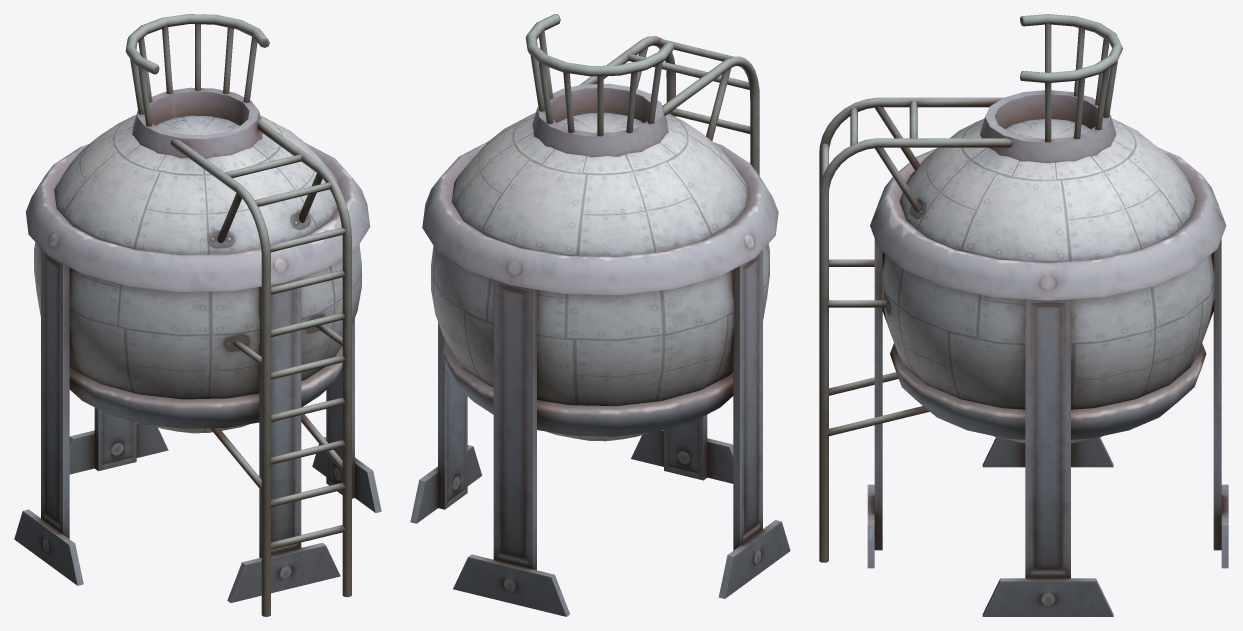
The model's file is StorageTank01.FBX.
3 views of the same model, side by side, from view 1: azimuth 30°, elevation 25°; view 2: azimuth 150°, elevation 25°; view 3: azimuth 270°, elevation 25° (orthographic). The views are drawn at different scales.
Parts seen in each view (by area): view 1: StorageTank01; view 2: StorageTank01; view 3: StorageTank01.
Part boxes in pixels (left/top/right/bottom): StorageTank01: left=14, top=14, right=381, bottom=616; StorageTank01: left=410, top=14, right=790, bottom=616; StorageTank01: left=819, top=14, right=1228, bottom=616.
Size of what is drawn, in the model's own units: 3.3 by 5 by 3.74.
